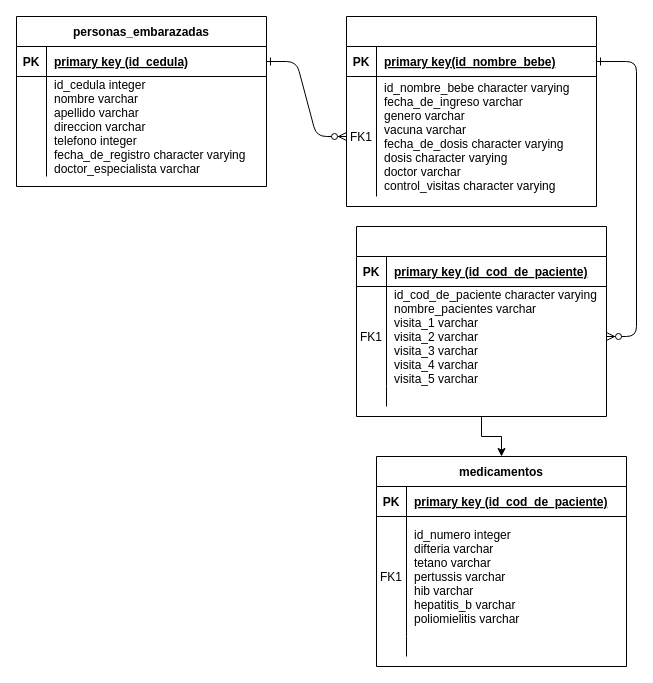
The diagram is 653 pixels wide and 683 high, and some of its shapes have lost their labels. The shapes that lost their labels are listed below. From the top down, each one's box as (x1, y1, x2, y2) in pixels, then its label:
(346, 16, 596, 206): bebe_en_camino
(356, 226, 606, 416): vistas_al_centro
